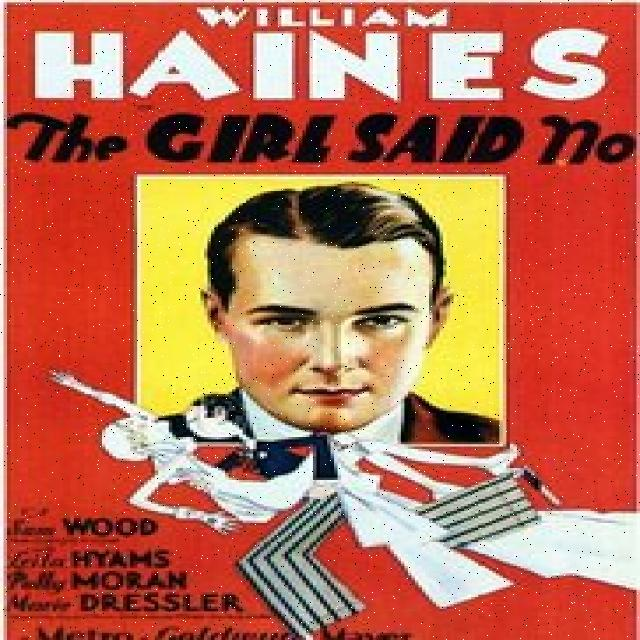movie-judul: (8, 2, 640, 174)
picture: (7, 1, 640, 639)
